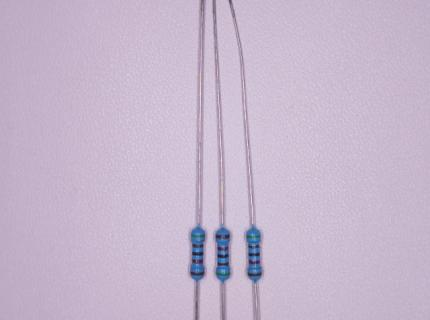Black band: (217, 255, 229, 258), (192, 252, 203, 255), (249, 253, 260, 256)
Brown band: (216, 234, 229, 239), (191, 271, 204, 276), (248, 272, 262, 276), (192, 244, 204, 248), (248, 245, 259, 249), (218, 262, 229, 266)
Green band: (191, 234, 205, 238), (216, 273, 230, 276), (247, 235, 261, 238)
Red band: (249, 259, 260, 264), (217, 247, 228, 251), (192, 259, 202, 263)
